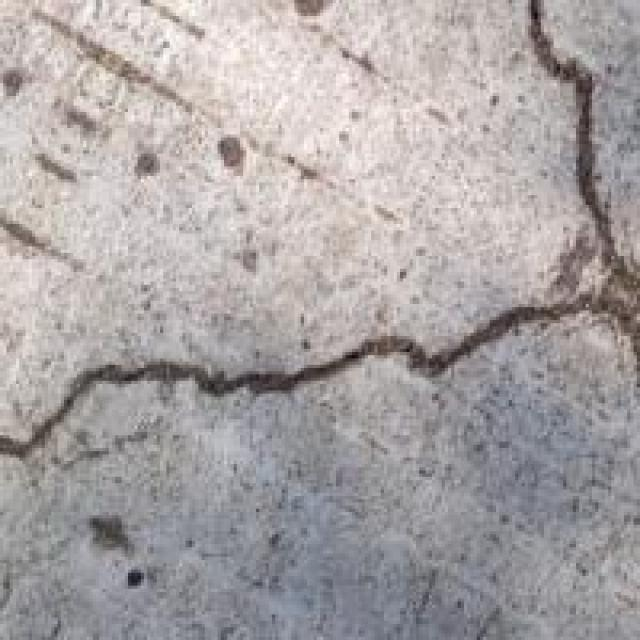Crack: (0, 4, 637, 487)
